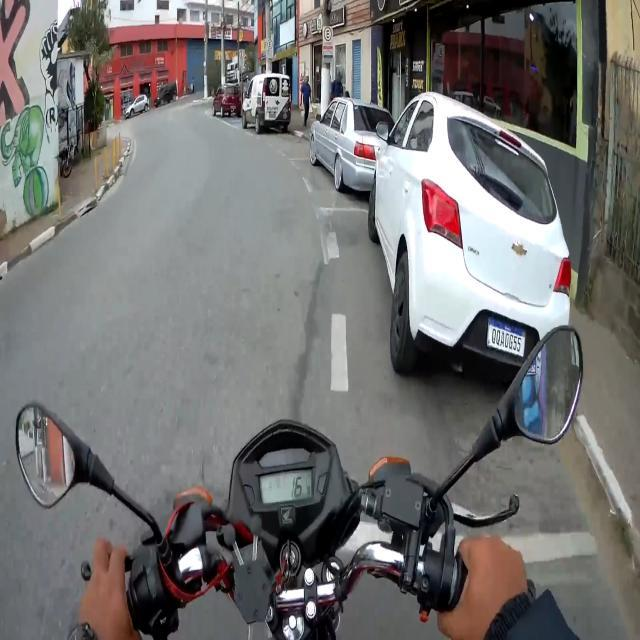Placa_mercosul_carro: (487, 317, 525, 357)
